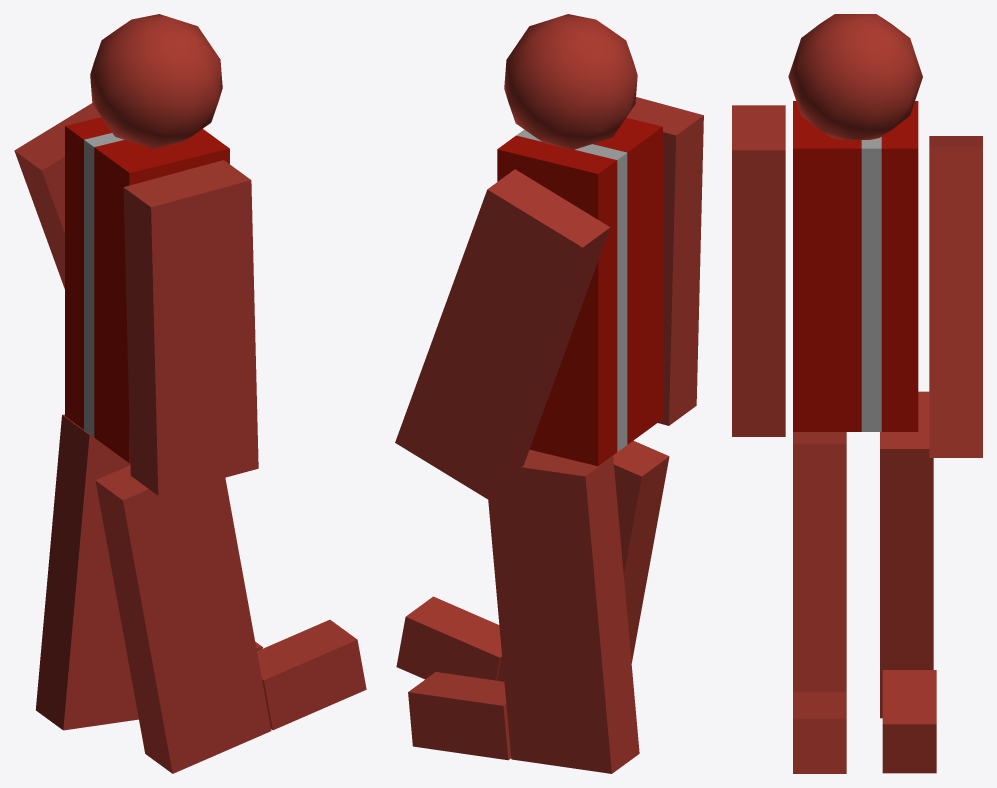
The model's file is player_000038.obj.
The picture shows the model from 3 angles, left to right: view 1: azimuth 30°, elevation 25°; view 2: azimuth 150°, elevation 25°; view 3: azimuth 270°, elevation 25°; orthographic projection. The views are drawn at different scales.
Visible parts, largest first — view 1: Cube.013, Cube.010, Cube.007, Cube.008, Icosphere.001, Cube.011, Cube.012; view 2: Cube.008, Cube.012, Cube.007, Icosphere.001, Cube.013, Cube.009, Cube.011, Cube.010; view 3: Cube.007, Cube.013, Cube.012, Cube.010, Cube.008, Icosphere.001, Cube.009, Cube.011.
Part boxes in pixels (x1,y1,x2,y2): Cube.013: (123, 160, 258, 495); Cube.010: (95, 465, 271, 773); Cube.007: (65, 117, 229, 463); Cube.008: (36, 414, 138, 730); Icosphere.001: (90, 14, 222, 148); Cube.011: (257, 619, 366, 730); Cube.012: (14, 103, 101, 288); Cube.008: (488, 449, 639, 773); Cube.012: (395, 169, 610, 500); Cube.007: (497, 117, 662, 466); Icosphere.001: (504, 14, 637, 149); Cube.013: (626, 97, 703, 425); Cube.009: (408, 672, 510, 760); Cube.011: (396, 596, 501, 680); Cube.010: (497, 440, 669, 681); Cube.007: (793, 101, 918, 431); Cube.013: (732, 105, 785, 436); Cube.012: (929, 136, 982, 457); Cube.010: (793, 432, 846, 691); Cube.008: (880, 391, 933, 718); Icosphere.001: (788, 14, 922, 139); Cube.009: (882, 670, 936, 773); Cube.011: (793, 691, 846, 773).
Bounding box in the file's own units: 1.06 × 2.85 × 0.9137.
